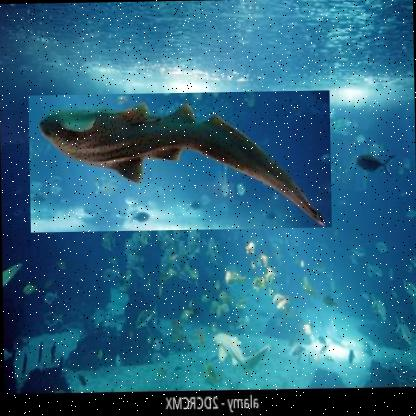zebra_shark: (27, 90, 331, 233)
